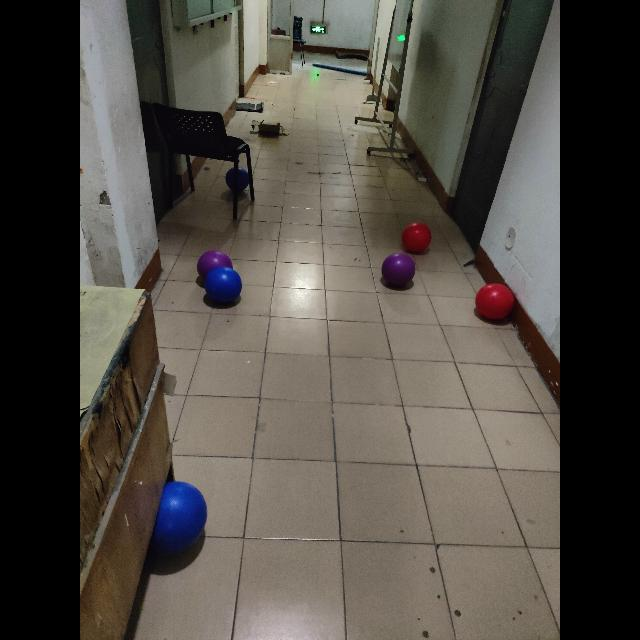B: (136, 477, 208, 553), (204, 268, 242, 304), (226, 167, 250, 191)
P: (382, 252, 416, 290), (197, 250, 233, 284)
R: (474, 282, 516, 322), (401, 222, 433, 255)
